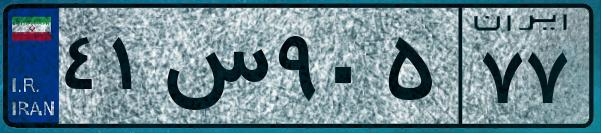0: (330, 28, 385, 110)
1: (110, 28, 158, 98)
4: (57, 26, 110, 100)
5: (385, 28, 445, 110)
7: (475, 38, 525, 113), (525, 38, 570, 115)
9: (270, 28, 330, 110)
س: (158, 20, 270, 120)
